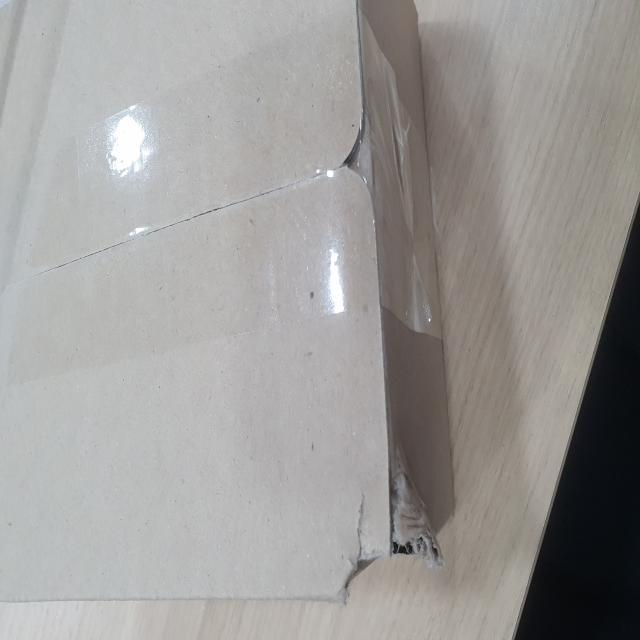hole: (335, 525, 446, 602)
